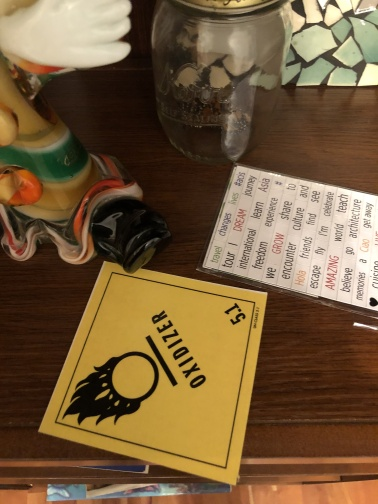Oxidizer: (36, 261, 269, 485)
